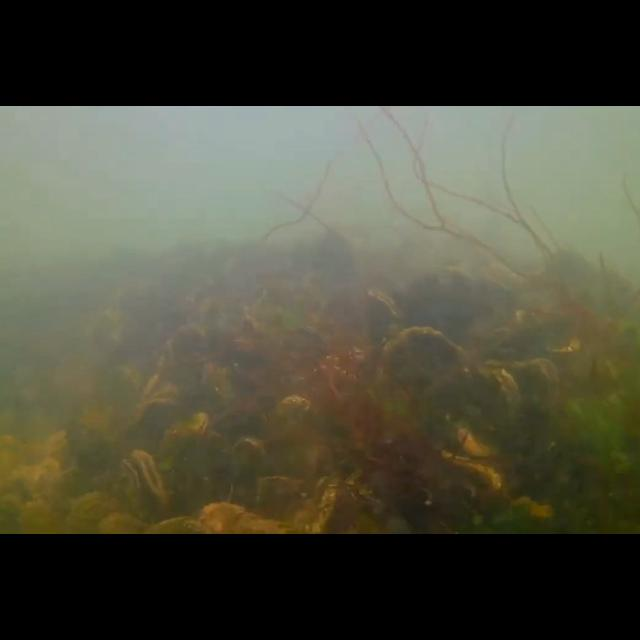Oyster-Closed: (377, 325, 469, 393), (452, 365, 524, 429), (485, 356, 559, 412), (170, 323, 210, 405), (228, 437, 272, 509), (437, 450, 503, 494), (67, 490, 126, 534), (140, 342, 176, 414), (265, 396, 315, 440), (202, 362, 238, 412), (455, 422, 503, 458)
Oyster-Open: (111, 450, 170, 534), (364, 286, 406, 362), (156, 410, 212, 454), (307, 476, 339, 534), (135, 384, 183, 418)
